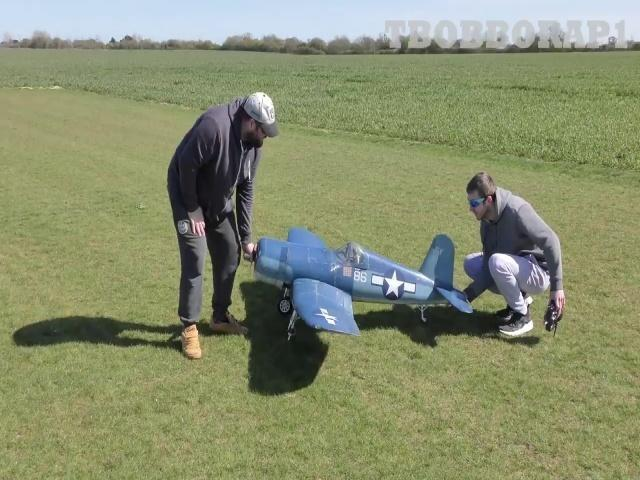Airplane: (253, 228, 472, 344)
